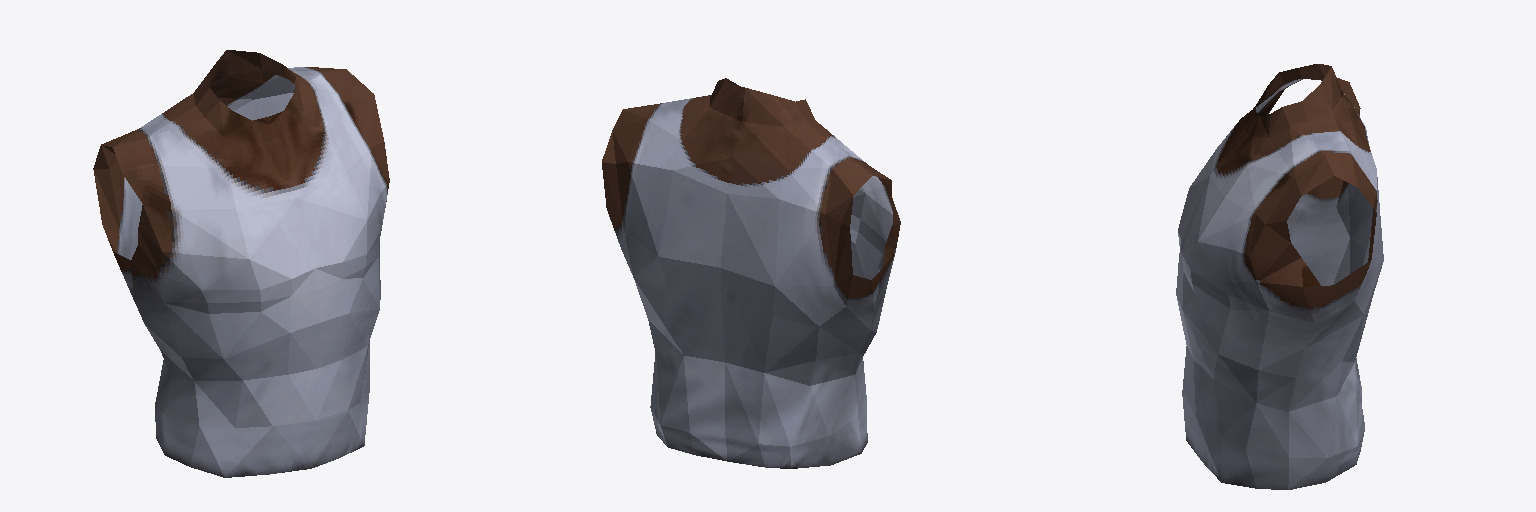
3 renders of one model, left to right at view 1: azimuth 30°, elevation 25°; view 2: azimuth 150°, elevation 25°; view 3: azimuth 270°, elevation 25°, orthographic.
Parts seen in each view (by area): view 1: TORSO; view 2: TORSO; view 3: TORSO.
Boxes of the visible parts, <box> form: TORSO: <box>93,50,389,477</box>; TORSO: <box>602,78,900,468</box>; TORSO: <box>1176,64,1383,489</box>.
Bounding box in the file's own units: 0.3764 × 0.5249 × 0.2629.
1 materials, 1 textured.